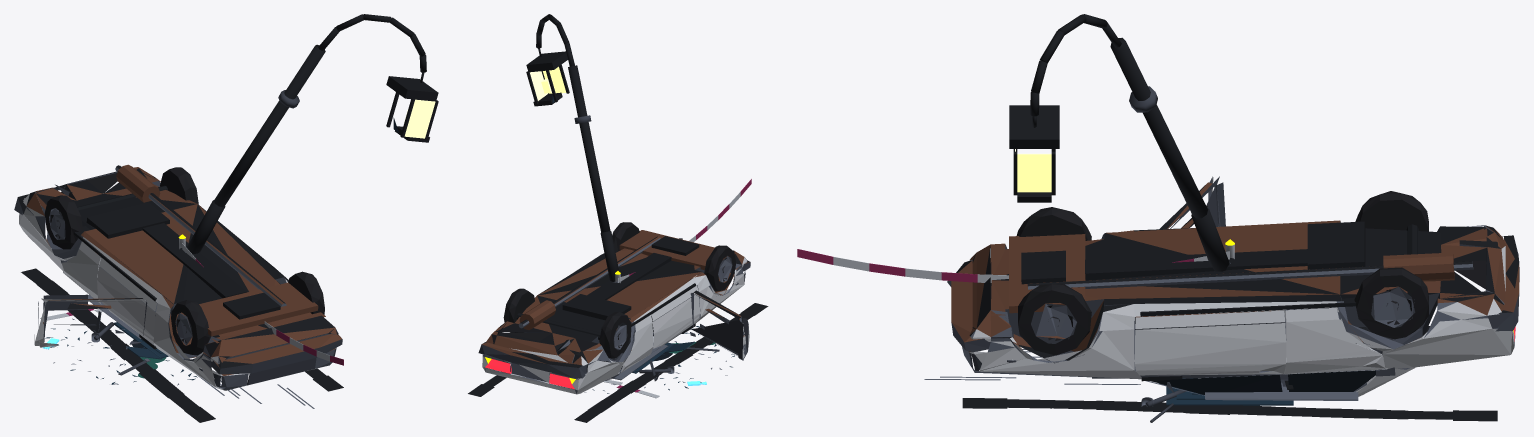
File: room-detail-krakowskie-props.glb
3 views of the same model, side by side, from view 1: azimuth 30°, elevation 25°; view 2: azimuth 150°, elevation 25°; view 3: azimuth 270°, elevation 25° (orthographic). The views are drawn at different scales.
Visible parts, largest first — view 1: rd-lit-wreck, rd-lit-bent-lamp, rd-lit-skid, rd-lit-tape, rd-lit-glass, rd-lit-tarp; view 2: rd-lit-wreck, rd-lit-bent-lamp, rd-lit-skid, rd-lit-glass, rd-lit-tape, rd-lit-tarp; view 3: rd-lit-wreck, rd-lit-bent-lamp, rd-lit-skid, rd-lit-tape, rd-lit-tarp.
Boxes of the visible parts, left/top/right/bottom form: rd-lit-wreck: left=14, top=164, right=342, bottom=390; rd-lit-bent-lamp: left=185, top=14, right=438, bottom=254; rd-lit-skid: left=21, top=268, right=343, bottom=422; rd-lit-tape: left=178, top=234, right=343, bottom=365; rd-lit-glass: left=40, top=309, right=197, bottom=385; rd-lit-tarp: left=114, top=322, right=168, bottom=359; rd-lit-wreck: left=478, top=222, right=750, bottom=394; rd-lit-bent-lamp: left=526, top=14, right=621, bottom=282; rd-lit-skid: left=468, top=303, right=768, bottom=422; rd-lit-glass: left=584, top=326, right=734, bottom=398; rd-lit-tape: left=615, top=179, right=751, bottom=282; rd-lit-tarp: left=632, top=341, right=694, bottom=373; rd-lit-wreck: left=947, top=176, right=1519, bottom=400; rd-lit-bent-lamp: left=1009, top=14, right=1230, bottom=271; rd-lit-skid: left=924, top=326, right=1497, bottom=421; rd-lit-tape: left=797, top=239, right=1234, bottom=282; rd-lit-tarp: left=1150, top=378, right=1293, bottom=422.
Bounding box in the file's own units: 3.99 × 3.85 × 5.68.
1 material, 1 textured.
